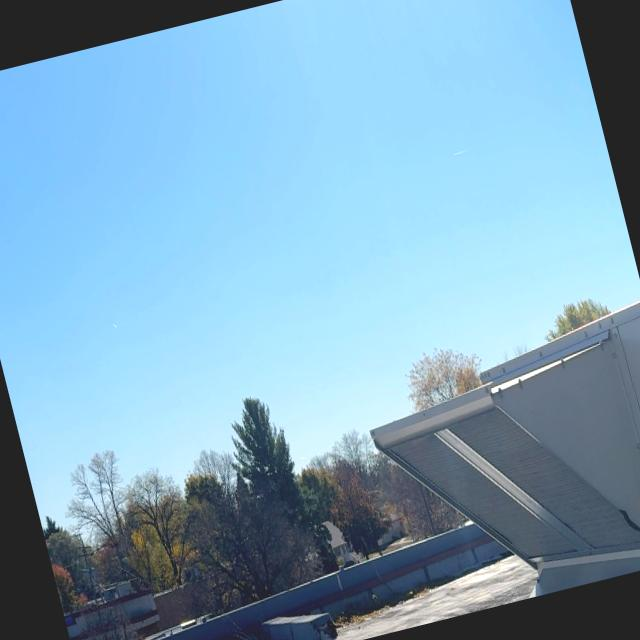RTU: (347, 283, 640, 626)
